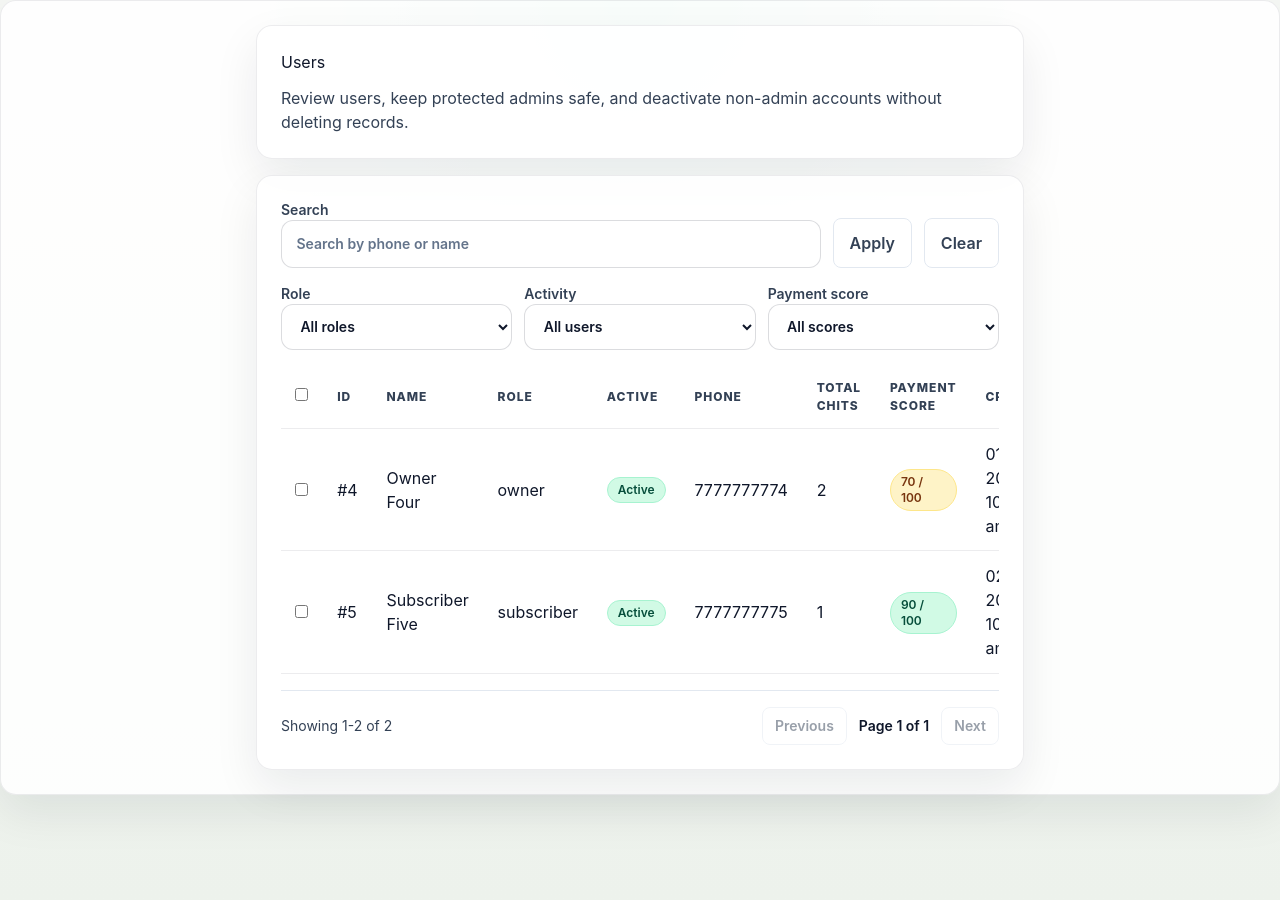
Test case: UsersPage sends selected eligible users through the bulk deactivate action
This screenshot has width=1280, height=900.
Click the checkbox named "Select user Owner Four": coordinates (302, 489) [295, 483, 308, 496]
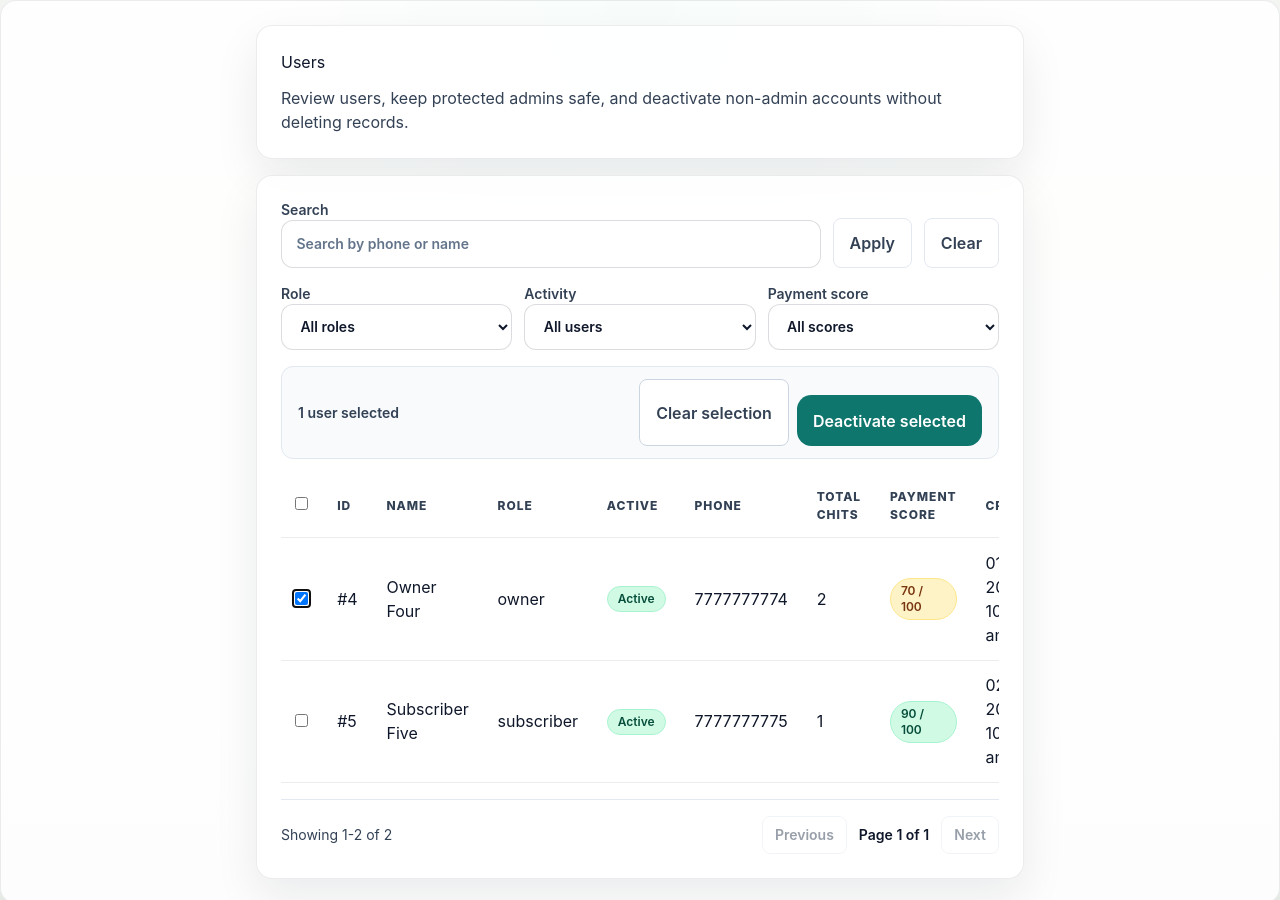
Click the checkbox named "Select user Subscriber Five": coordinates (302, 721) [295, 714, 308, 727]
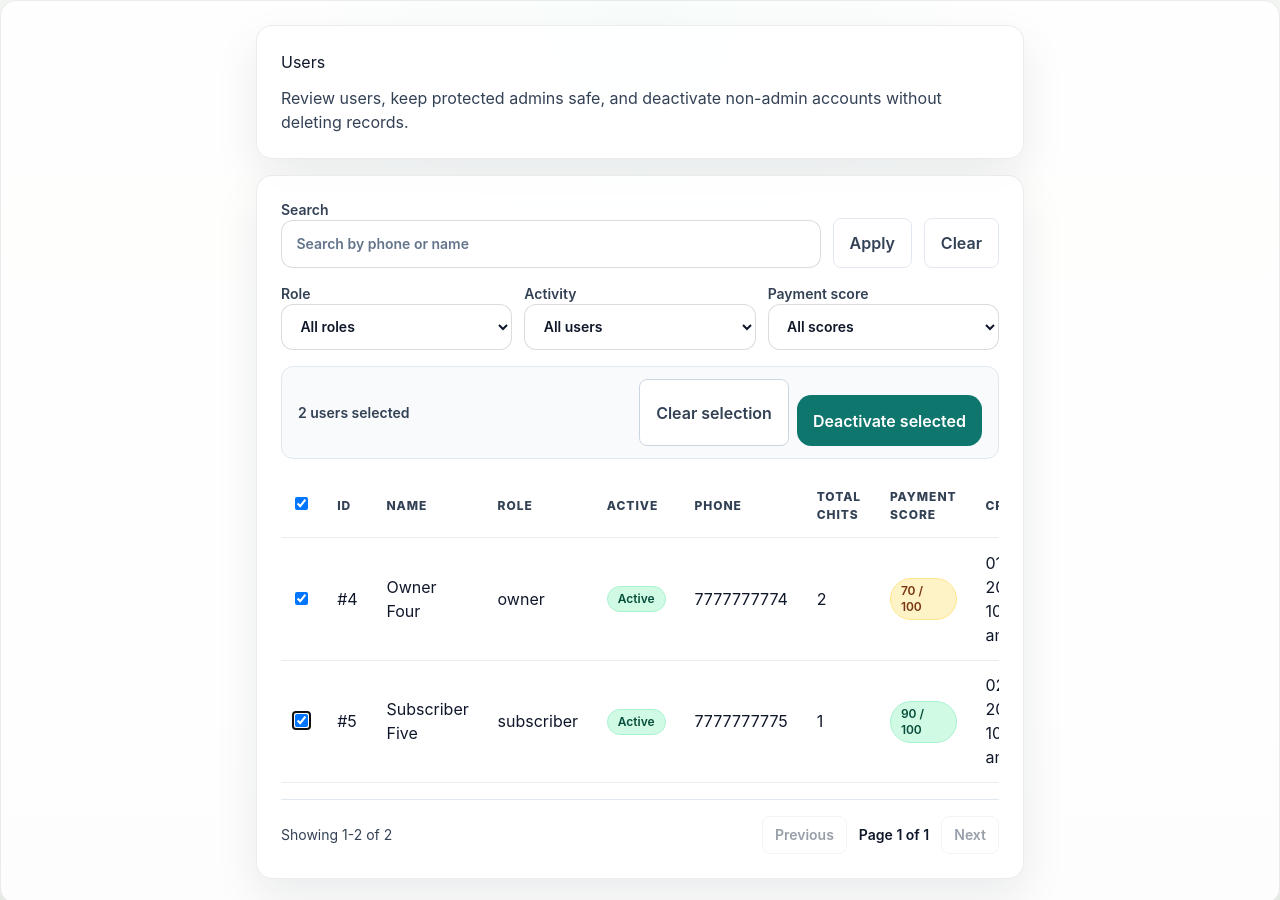
Click the button "Deactivate selected": coordinates (889, 421) [797, 395, 982, 446]
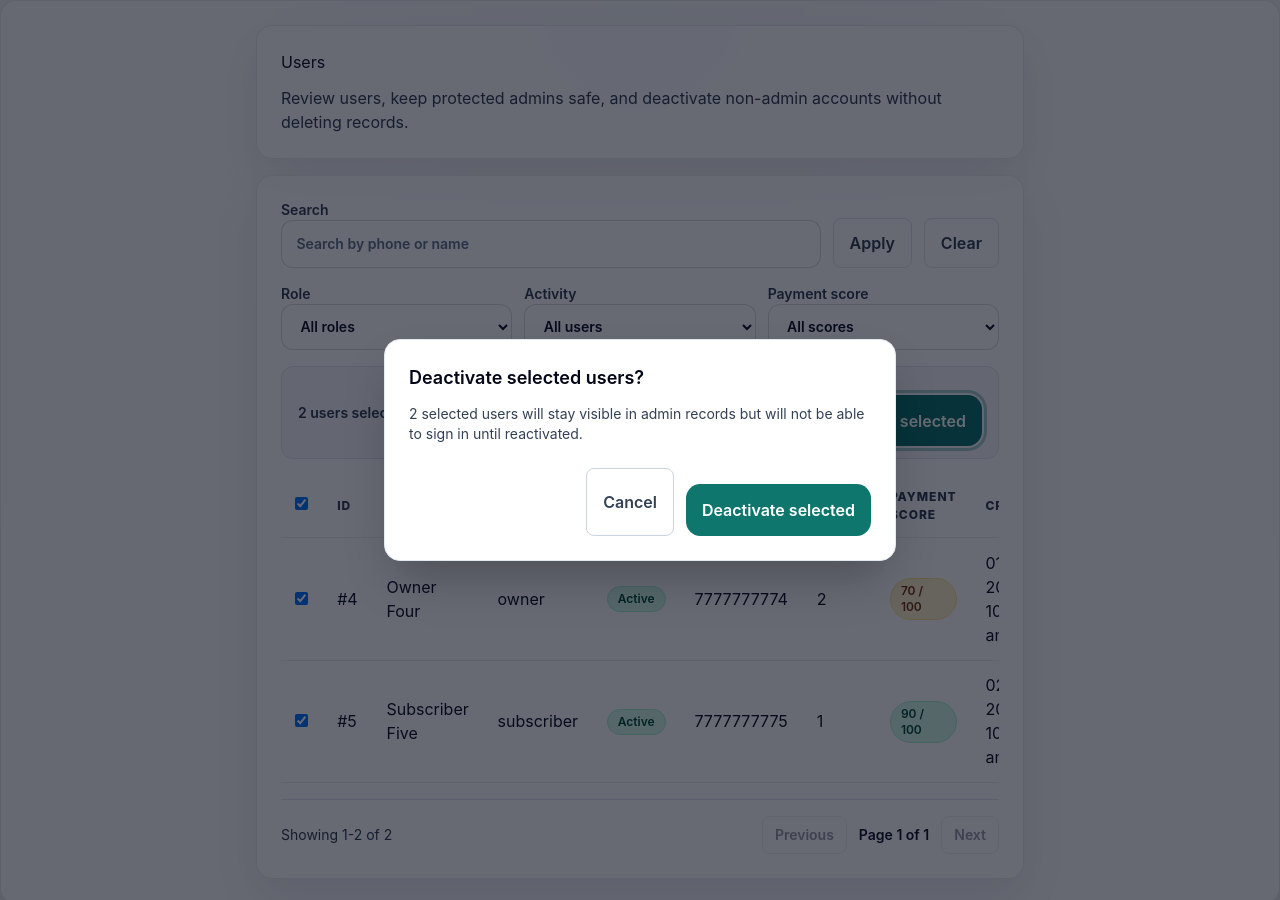
Expected: the heading "Deactivate selected users?" is shown, [409, 367, 644, 388]
Expected: the text "2 selected users will stay visible in admin records but will not be able to sign in until reactivated." is shown, [409, 405, 864, 442]
Click the button "Deactivate selected": coordinates (778, 510) [686, 484, 871, 536]
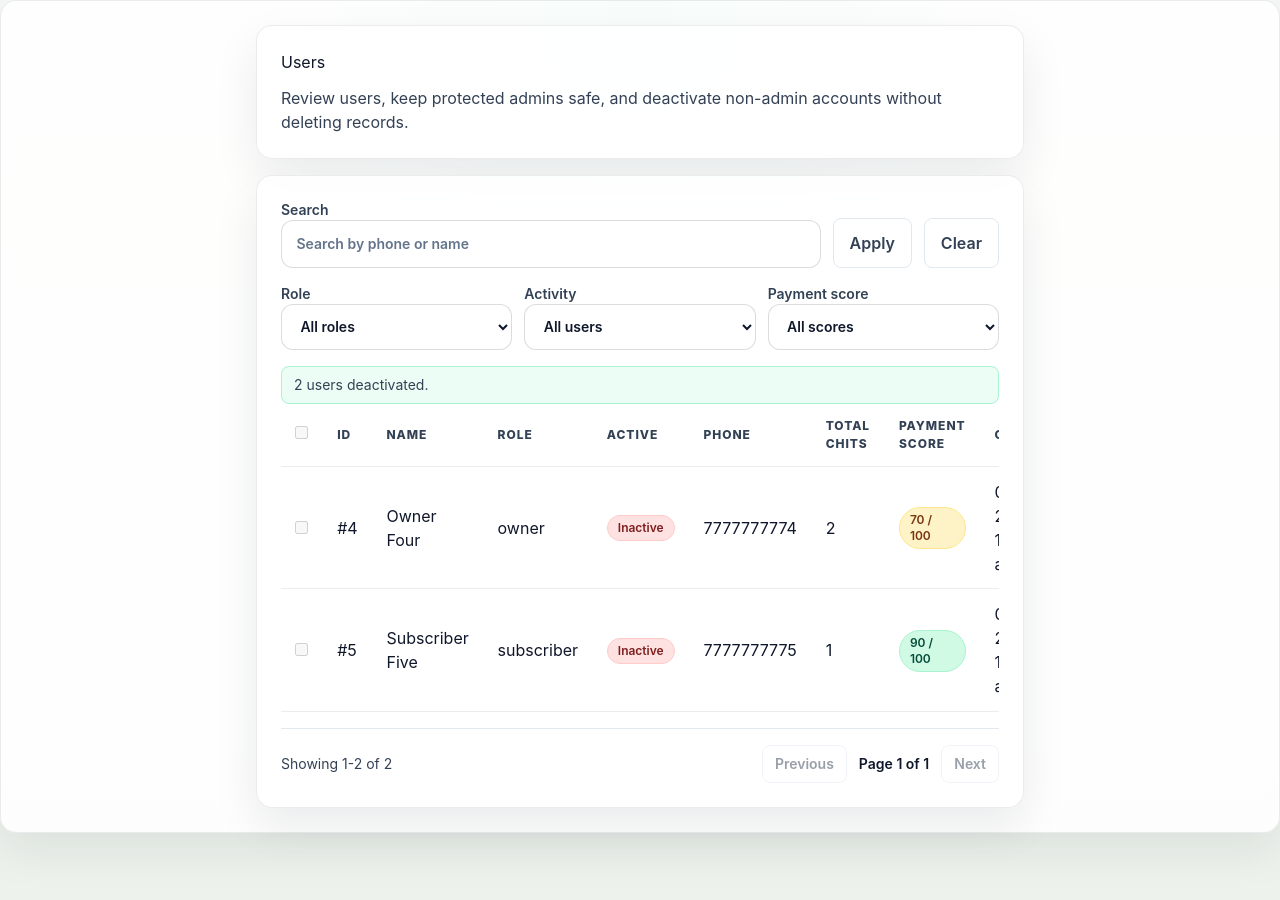
Expected: the text "2 users deactivated." is shown, [281, 366, 999, 404]
